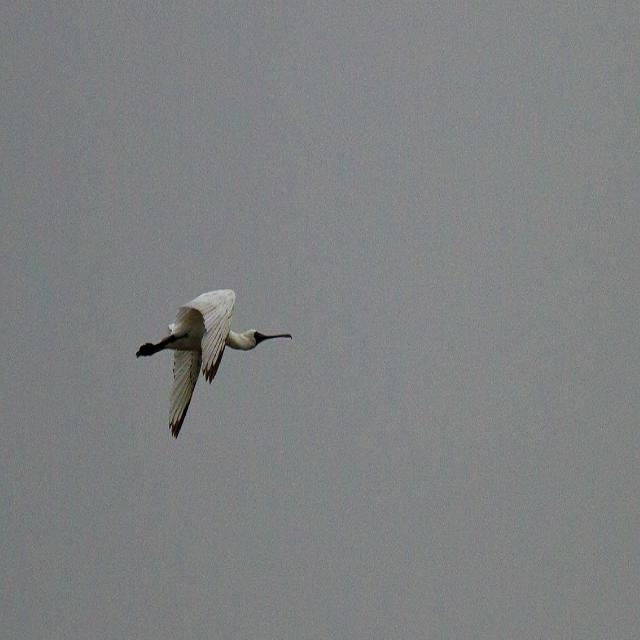Black-faced spoonbill: (137, 290, 291, 437)
